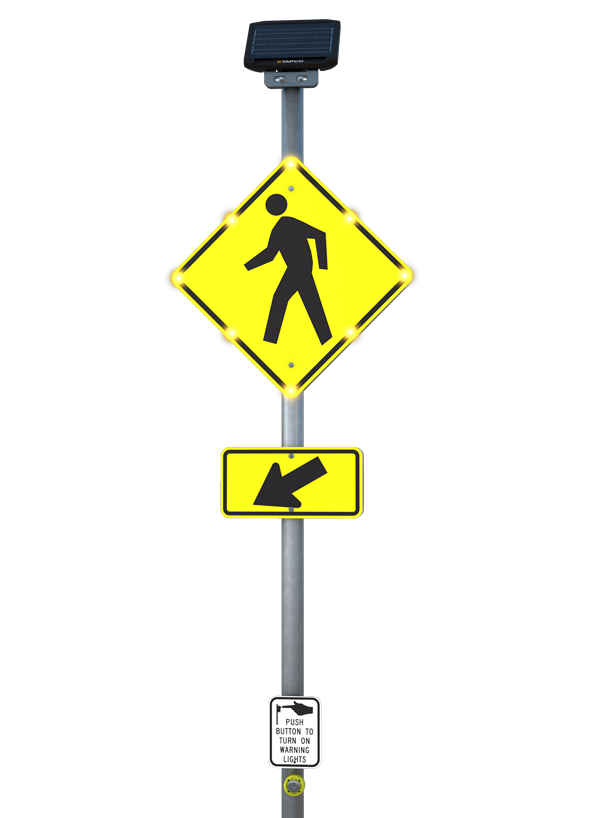pedestrian: (173, 157, 410, 400)
